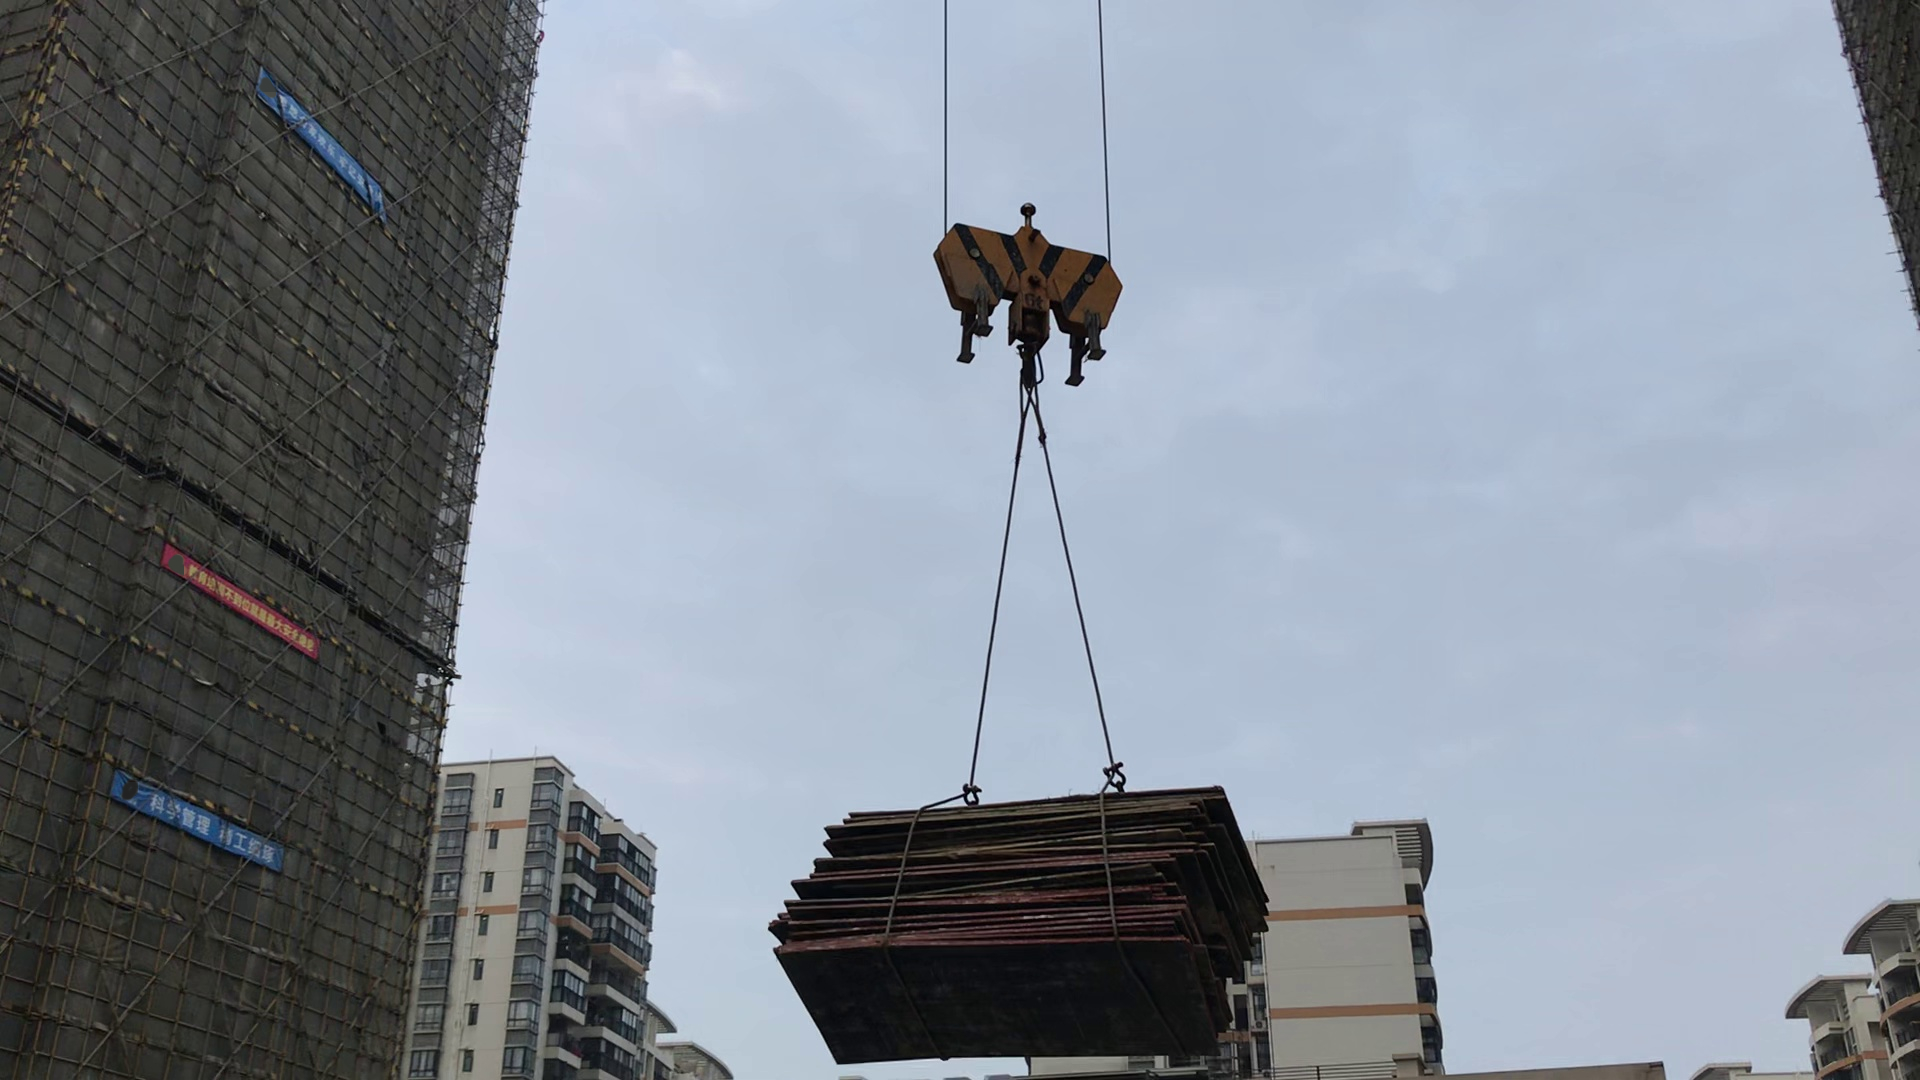board: (773, 786, 1267, 1068)
hook: (924, 208, 1124, 393)
slogan: (257, 65, 392, 222), (109, 760, 291, 872), (160, 534, 320, 655)
